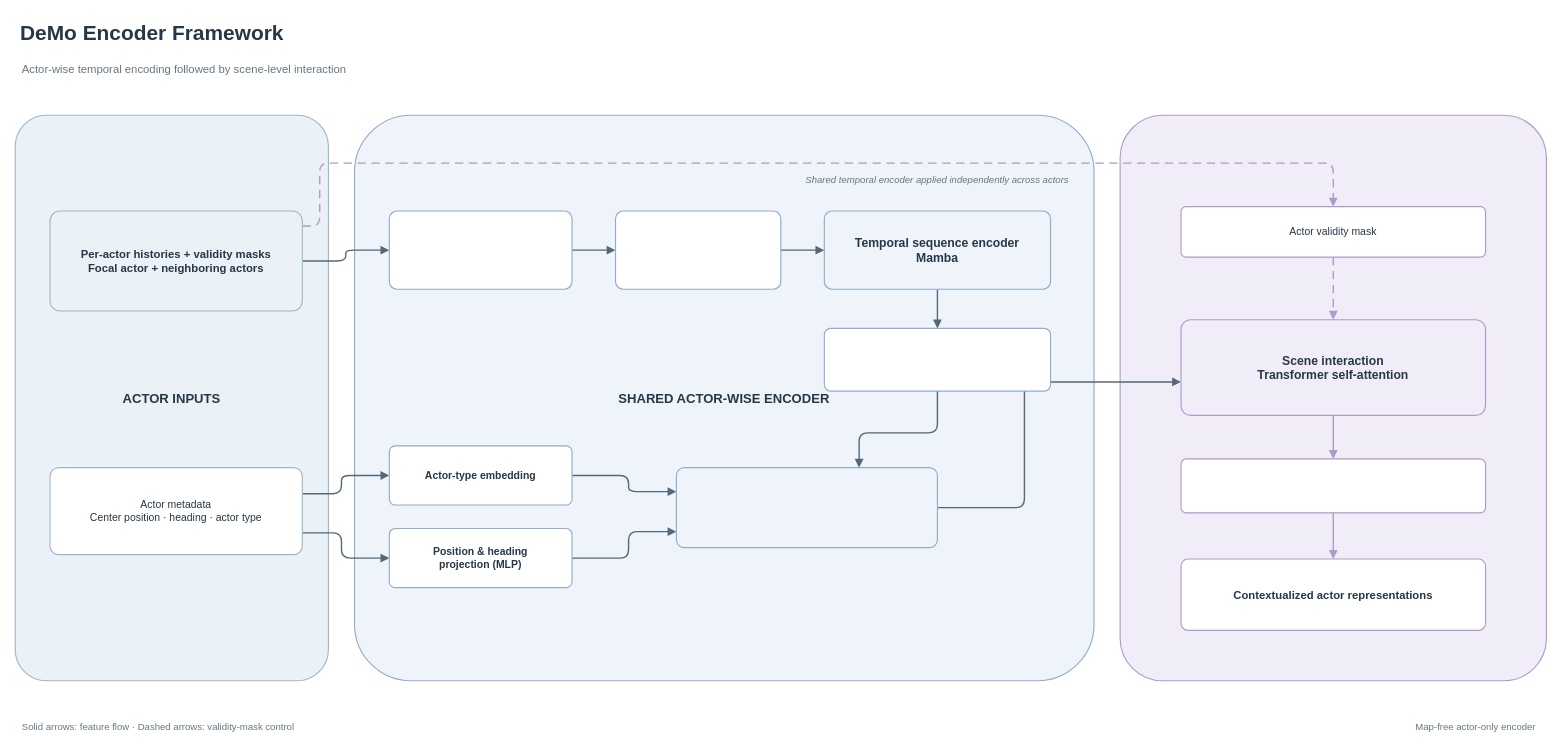
The diagram is 1563 pixels wide and 752 high, and some of its shapes have lost their labels. Here are the shapes that lost their labels. From the top down, the box of each, then its label:
(388, 210, 572, 289): Motion feature construction Relative displacement · velocity change
(615, 210, 781, 289): History feature projection (MLP)
(823, 327, 1051, 391): Last valid state selection
(1180, 458, 1486, 513): Layer normalization
(675, 467, 938, 548): Actor representation fusion Addition of temporal and context features
